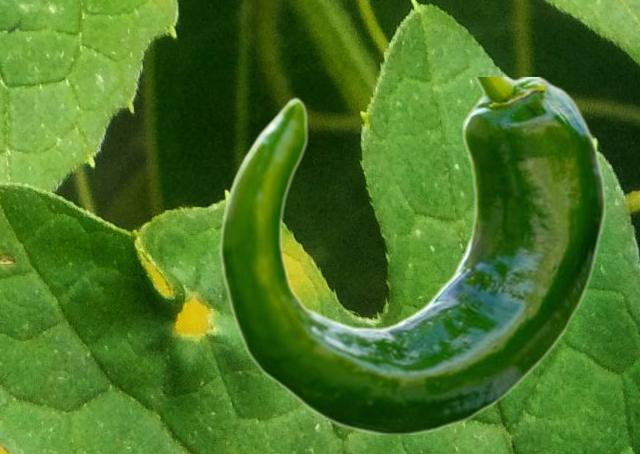green_chili: (219, 77, 606, 433)
